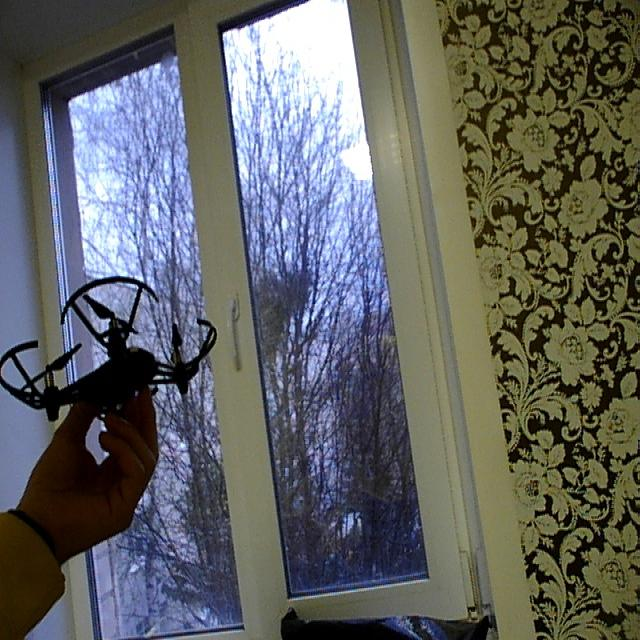drone: (2, 253, 223, 472)
